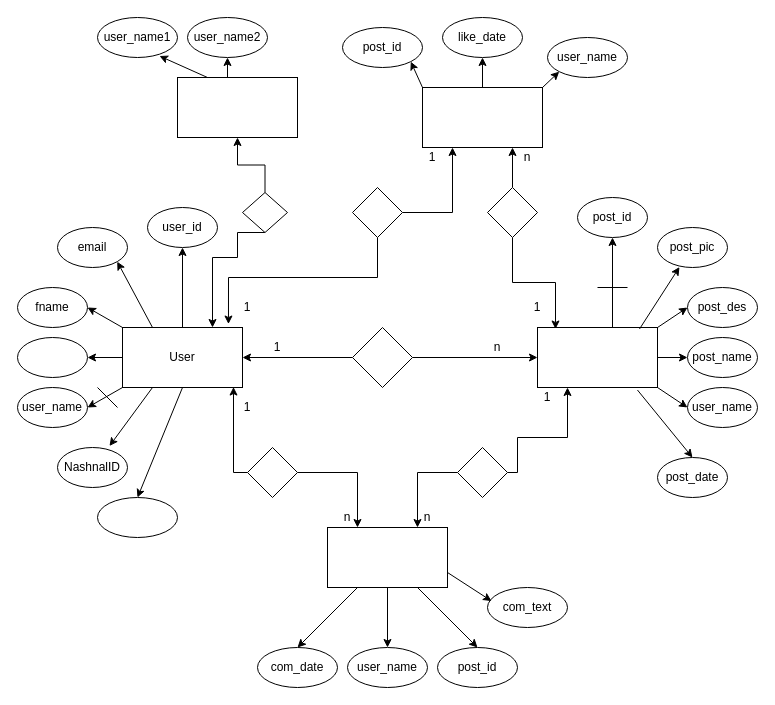
Image size: 775x705. Some labels were removed from this diagram. The box of each missing label's shape, as (x1, y1, x2, y2) in pixels:
Comment: (326, 526, 448, 588)
follow: (176, 76, 298, 138)
Like: (422, 86, 542, 148)
lname: (16, 336, 88, 378)
pass: (96, 496, 178, 538)
Post: (536, 326, 658, 388)
